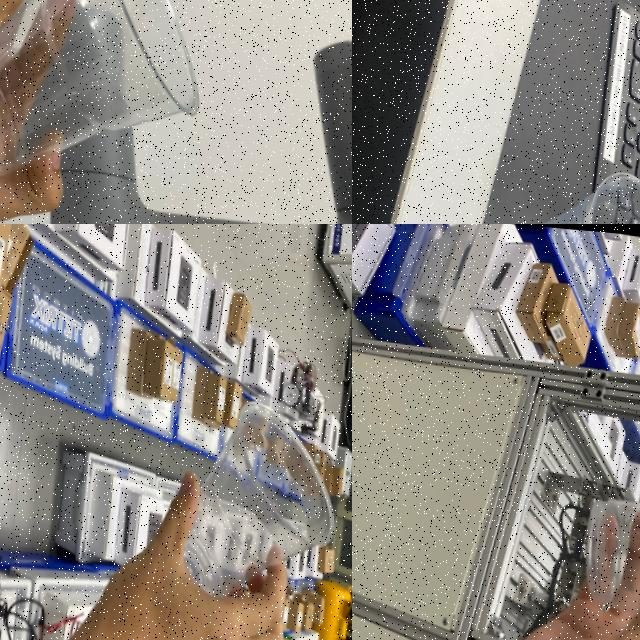glass: (0, 0, 226, 214), (163, 372, 351, 611), (565, 454, 640, 640), (507, 142, 640, 224)
